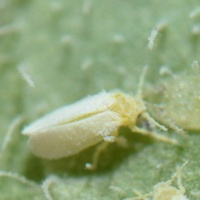insect: (22, 91, 175, 171)
